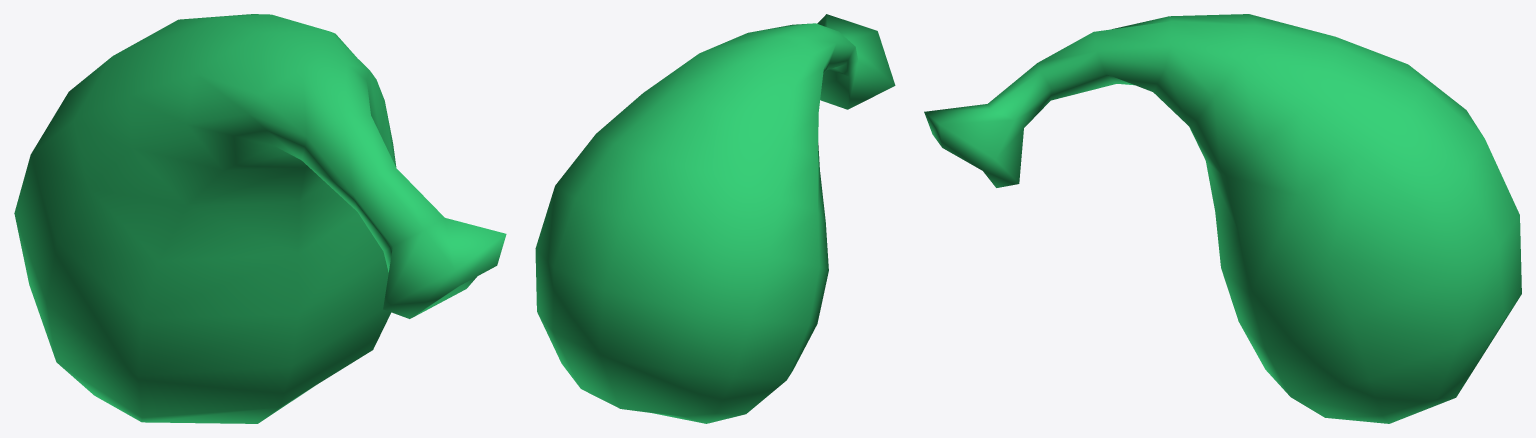
Rendered from Thief_bag.fbx.
The picture shows the model from 3 angles, left to right: view 1: azimuth 30°, elevation 25°; view 2: azimuth 150°, elevation 25°; view 3: azimuth 270°, elevation 25°; orthographic projection. The views are drawn at different scales.
Parts seen in each view (by area): view 1: Thief_bag_01; view 2: Thief_bag_01; view 3: Thief_bag_01.
Boxes of the visible parts, x1,y1,x2,y2 form: Thief_bag_01: (14, 14, 506, 423); Thief_bag_01: (535, 14, 895, 423); Thief_bag_01: (924, 14, 1521, 423).
Size of the model in its own units: 57.17 by 69.32 by 101.
